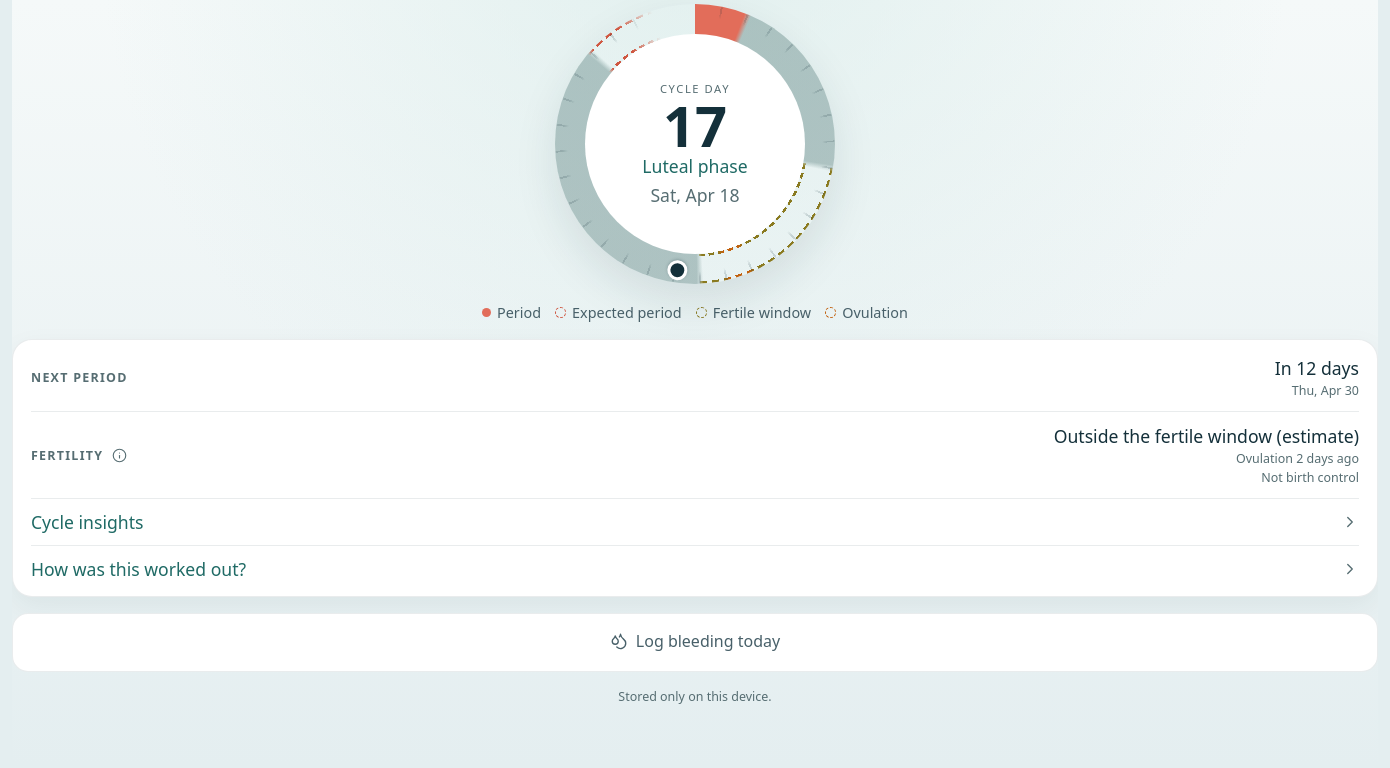
TodayScreen › shows the fertility disclaimer in an info popover
The image size is (1390, 768).
Click the heading named "how fertility is estimated": click(119, 455) x1=112 y1=448 x2=127 y2=463
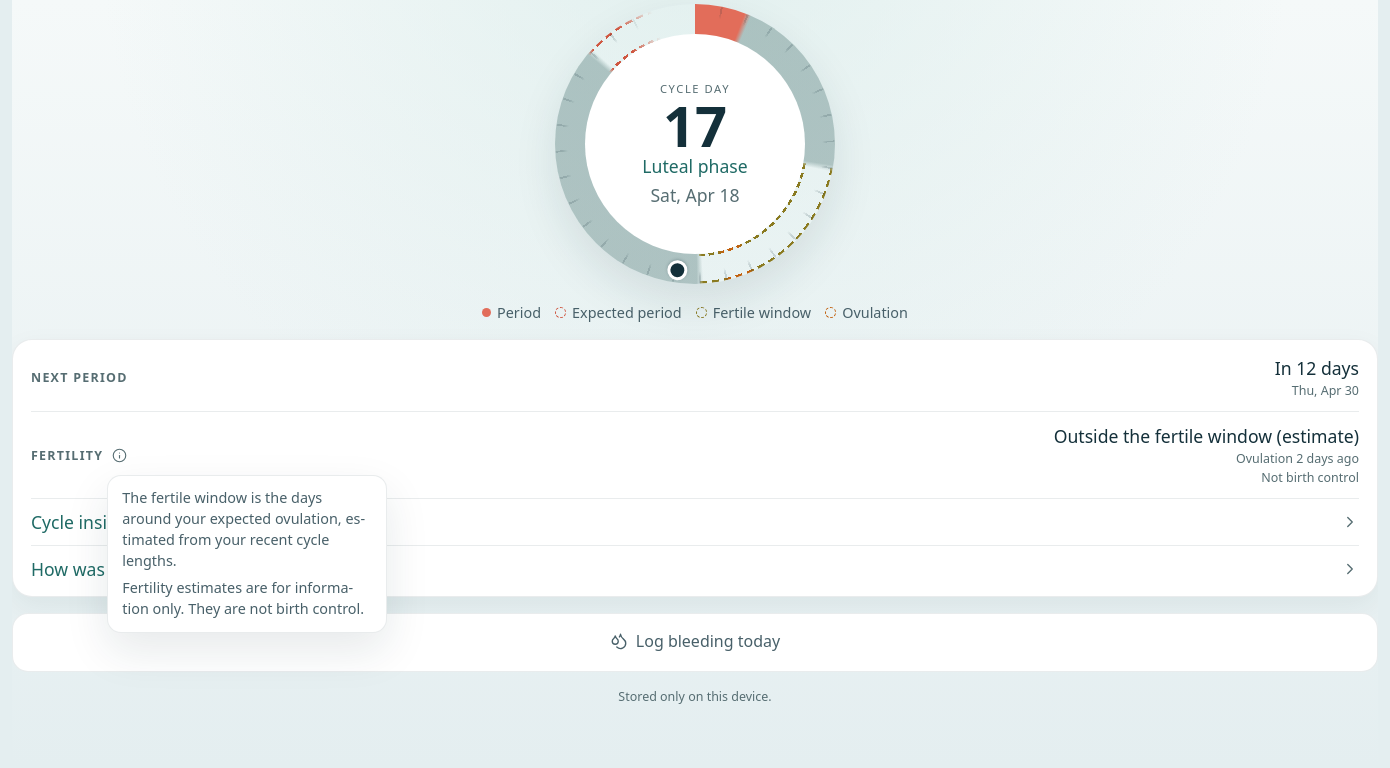
Result: the text "for information only. They are not birth control" is shown at x1=122 y1=578 x2=364 y2=618
